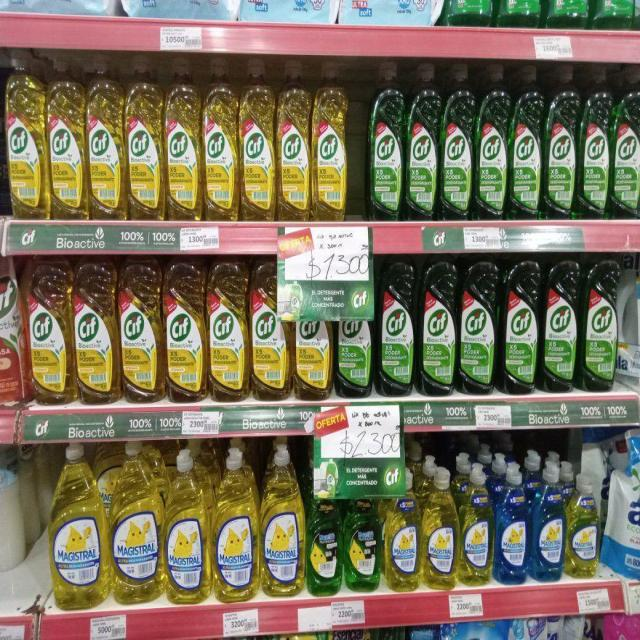ala_crem_blanco: (0, 441, 25, 574)
cif_conc_bot_amarilla: (6, 49, 46, 220), (28, 257, 72, 406), (74, 260, 118, 404), (86, 56, 124, 221), (48, 53, 85, 221), (126, 56, 163, 220), (164, 262, 206, 404), (120, 260, 162, 402), (239, 57, 275, 221), (165, 57, 201, 221), (203, 55, 238, 222), (312, 61, 348, 220), (208, 262, 248, 402), (276, 59, 310, 220), (250, 262, 289, 401), (293, 311, 332, 400)
cif_conc_botella_verde: (368, 60, 404, 221), (376, 257, 416, 396), (418, 255, 457, 396), (440, 62, 474, 222), (459, 258, 498, 396), (544, 63, 578, 220), (501, 259, 540, 395), (406, 61, 439, 221), (510, 63, 543, 220), (476, 62, 508, 221), (581, 257, 618, 392), (542, 259, 579, 393), (579, 66, 611, 220), (611, 65, 640, 220), (334, 312, 374, 398), (447, 0, 497, 28), (498, 0, 546, 29), (547, 0, 592, 30), (594, 0, 635, 31)
drive: (606, 611, 638, 640)
magistral_con_amarillo: (49, 442, 107, 610), (110, 441, 163, 604), (164, 446, 210, 605), (212, 445, 258, 602), (261, 442, 304, 598), (422, 465, 458, 590), (459, 462, 494, 587), (384, 483, 421, 592), (566, 471, 600, 579)
magistral_con_azul: (496, 462, 530, 585), (531, 461, 565, 582)
magistral_con_verde: (344, 497, 382, 593)
